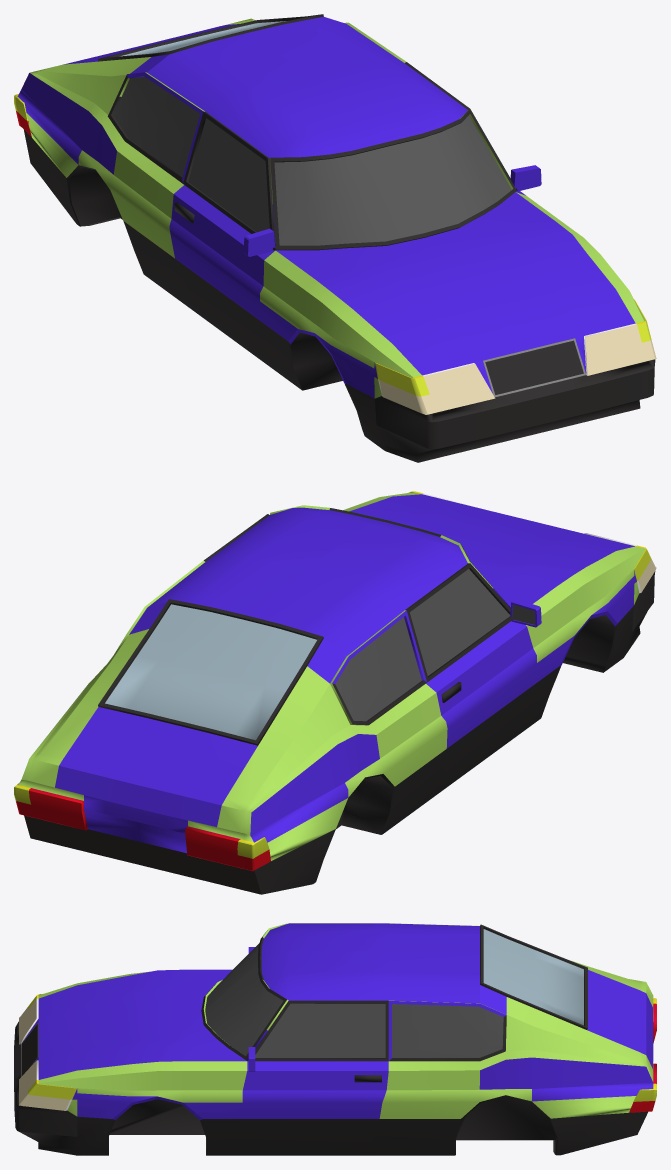
The model's file is Turbo_2.fbx.
The picture shows the model from 3 angles, top to bottom: view 1: azimuth 30°, elevation 25°; view 2: azimuth 150°, elevation 25°; view 3: azimuth 270°, elevation 25°; orthographic projection. The views are drawn at different scales.
Visible parts, largest first — view 1: Body, Hood, Door_R, Trunk, Door_L; view 2: Body, Trunk, Door_R, Hood; view 3: Body, Door_L, Hood, Trunk.
Boxes of the visible parts, x1,y1,x2,y2 form: Body: (14, 16, 656, 462); Hood: (276, 192, 635, 375); Door_R: (169, 111, 278, 372); Trunk: (63, 14, 323, 64); Door_L: (405, 62, 541, 195); Body: (14, 491, 656, 894); Trunk: (55, 599, 323, 826); Door_R: (405, 563, 541, 791); Hood: (349, 494, 634, 607); Body: (14, 923, 656, 1155); Door_L: (242, 1000, 388, 1155); Hood: (38, 969, 246, 1079); Trunk: (480, 924, 652, 1068).
Bounding box in the file's own units: 2.14 × 1.42 × 5.18.
